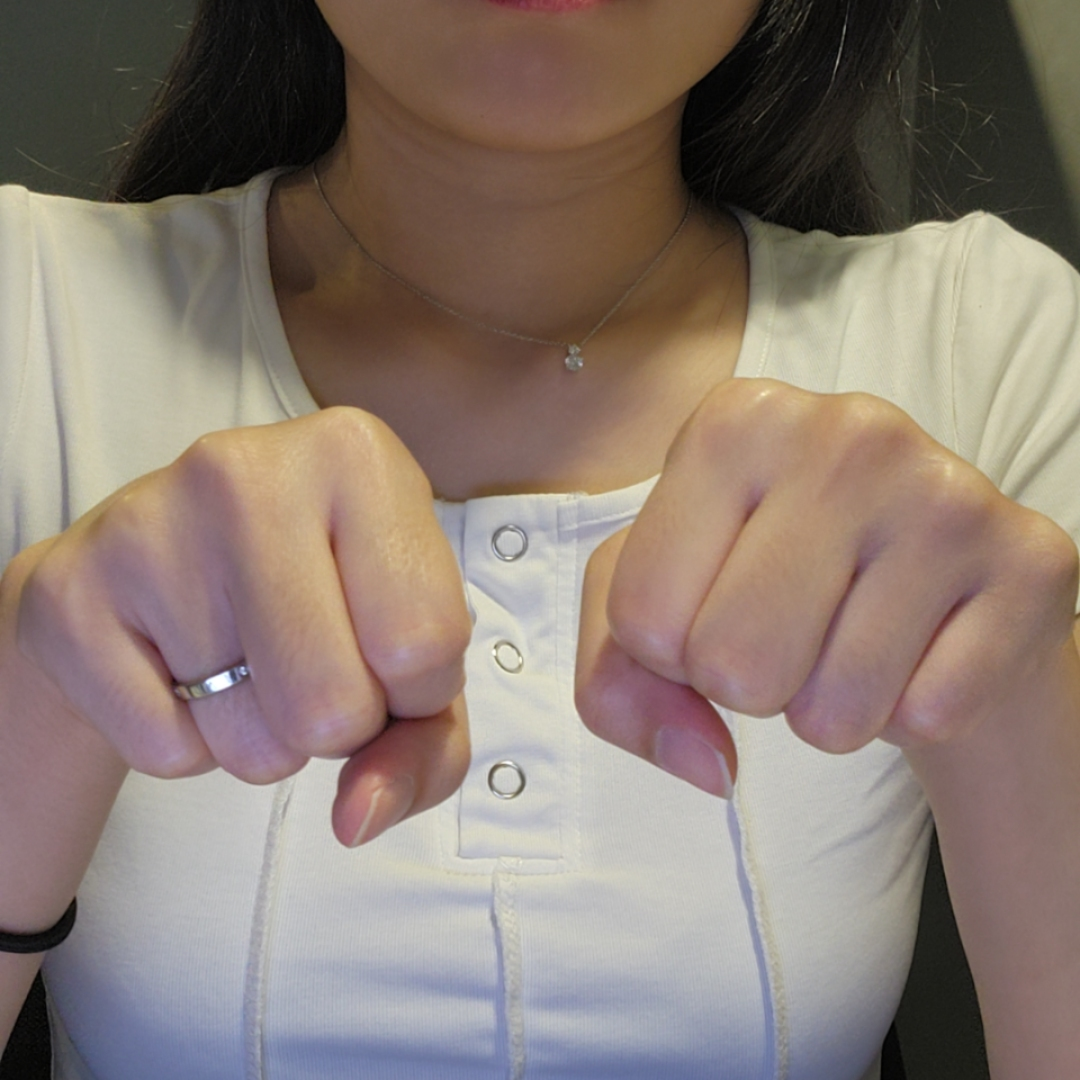hello: (27, 377, 1071, 853)
